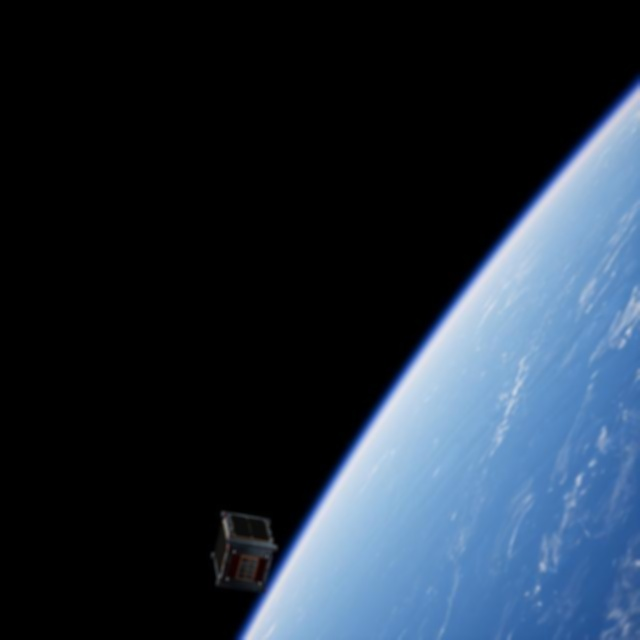medium_debris: (206, 507, 282, 590)
